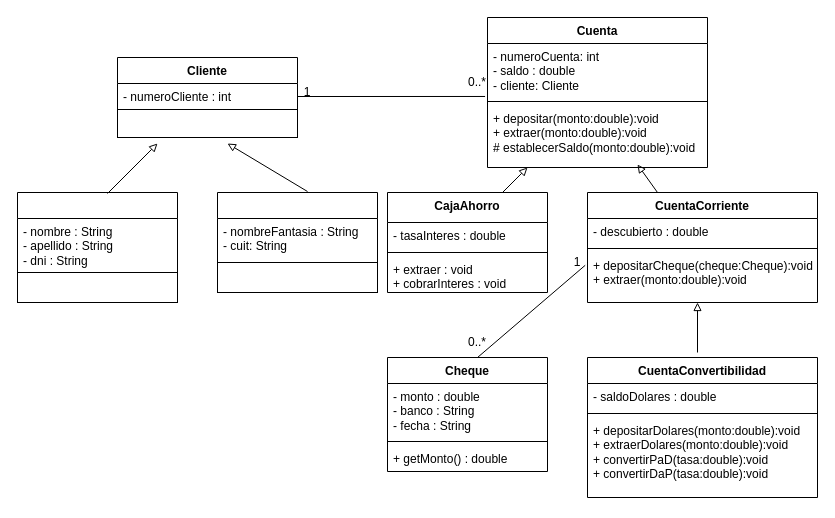
The diagram is 835 pixels wide and 518 high, and some of its shapes have lost their labels. Here are the shapes that lost their labels. From the top down, the box of each, then its label:
(116, 108, 298, 138): + getNumeroCliente : int
(16, 192, 178, 272): ClienteIndividual
(216, 192, 378, 262): ClienteEmpresa
